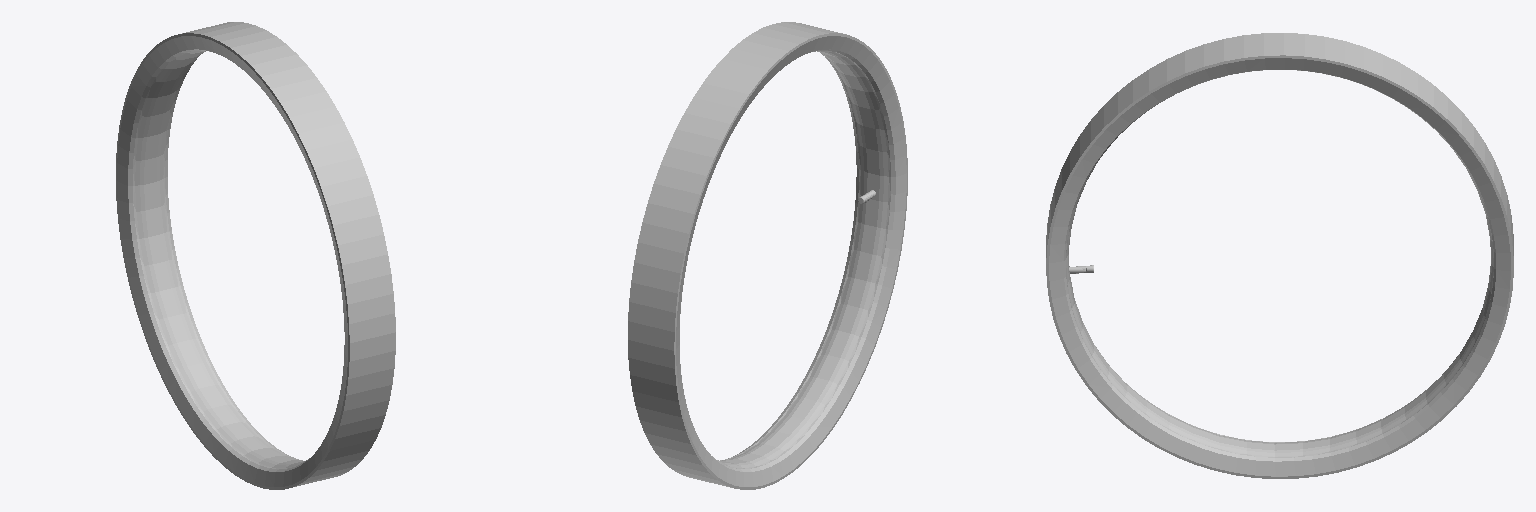
File: New_rim 1.obj
The picture shows the model from 3 angles: view 1: azimuth 30°, elevation 25°; view 2: azimuth 150°, elevation 25°; view 3: azimuth 270°, elevation 25°; orthographic projection.
Parts seen in each view (by area): view 1: Default; view 2: Default; view 3: Default.
Part boxes in pixels (left/top/right/bottom): Default: left=116, top=22, right=395, bottom=489; Default: left=628, top=22, right=907, bottom=489; Default: left=1046, top=33, right=1513, bottom=478.
Size of the model in its own units: 0.0486 by 0.4184 by 0.4185.